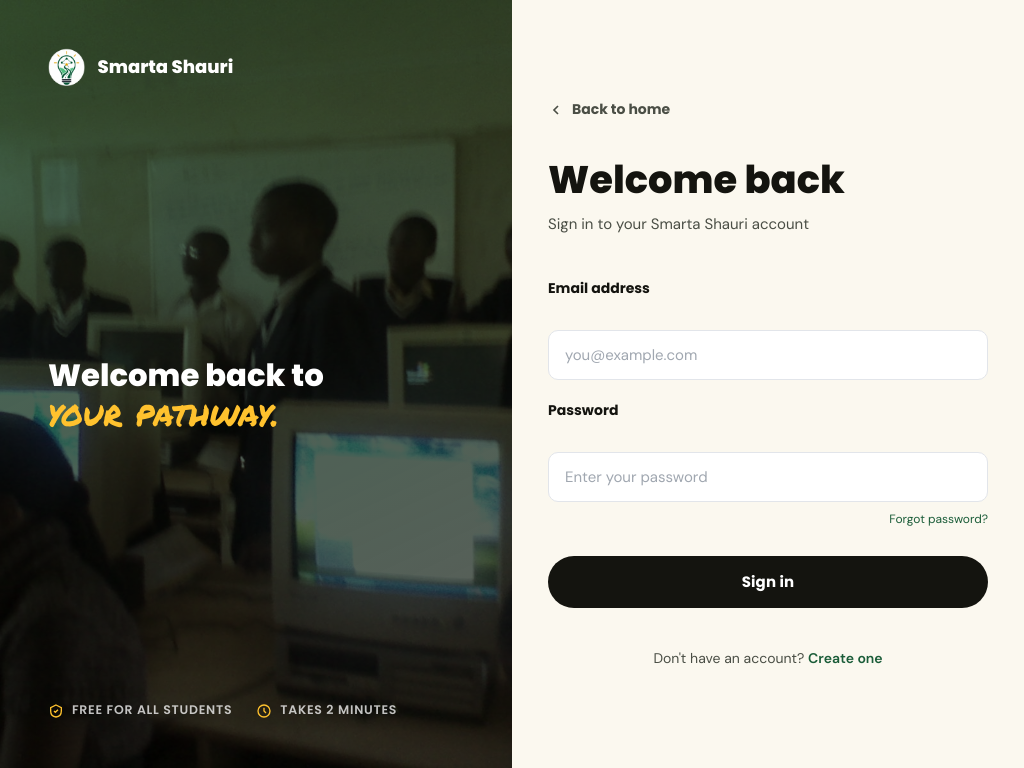
Test: LoginPage › disables button while submitting
Type "test@test.com" into the field labelled "Email address" at (768, 355), box 548,330 -> 988,380
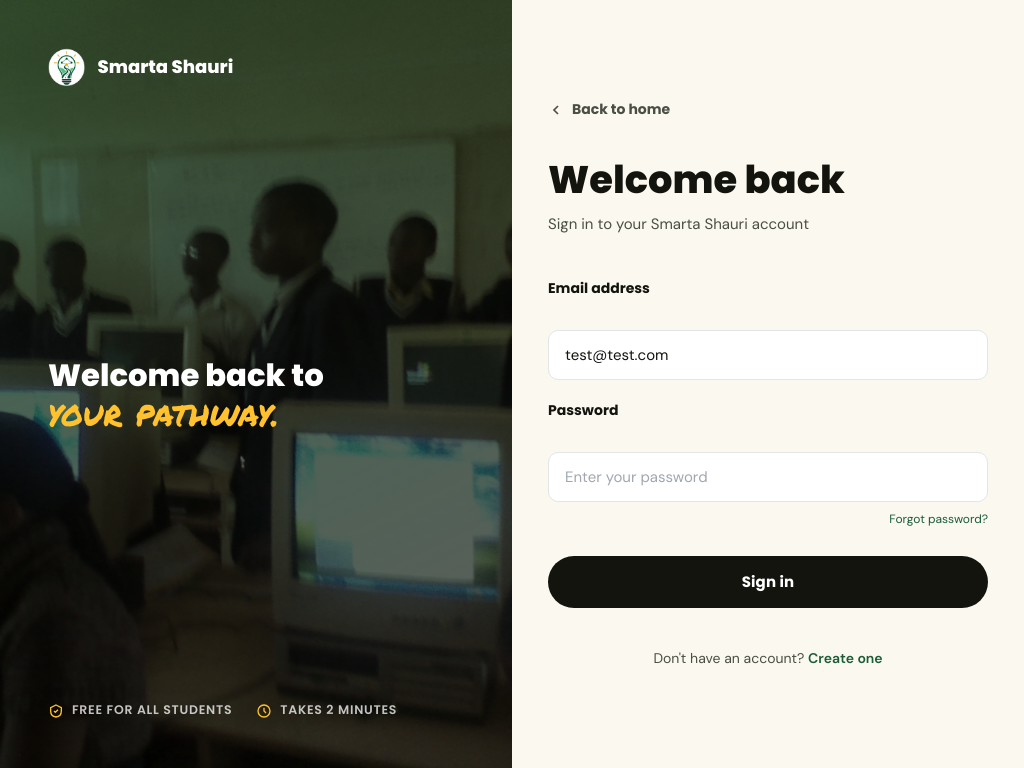
Type "TestPass123!" into the password field labelled "Password" at (768, 477), box 548,452 -> 988,502
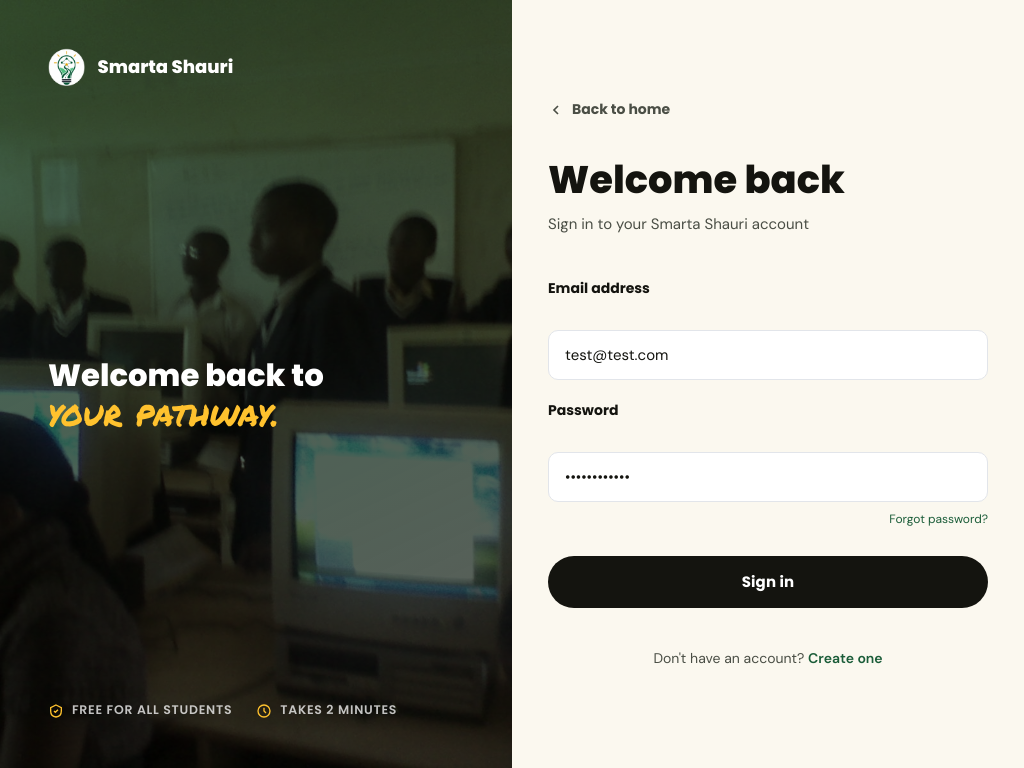
Click the button "Sign in" at (768, 582), box 548,556 -> 988,608
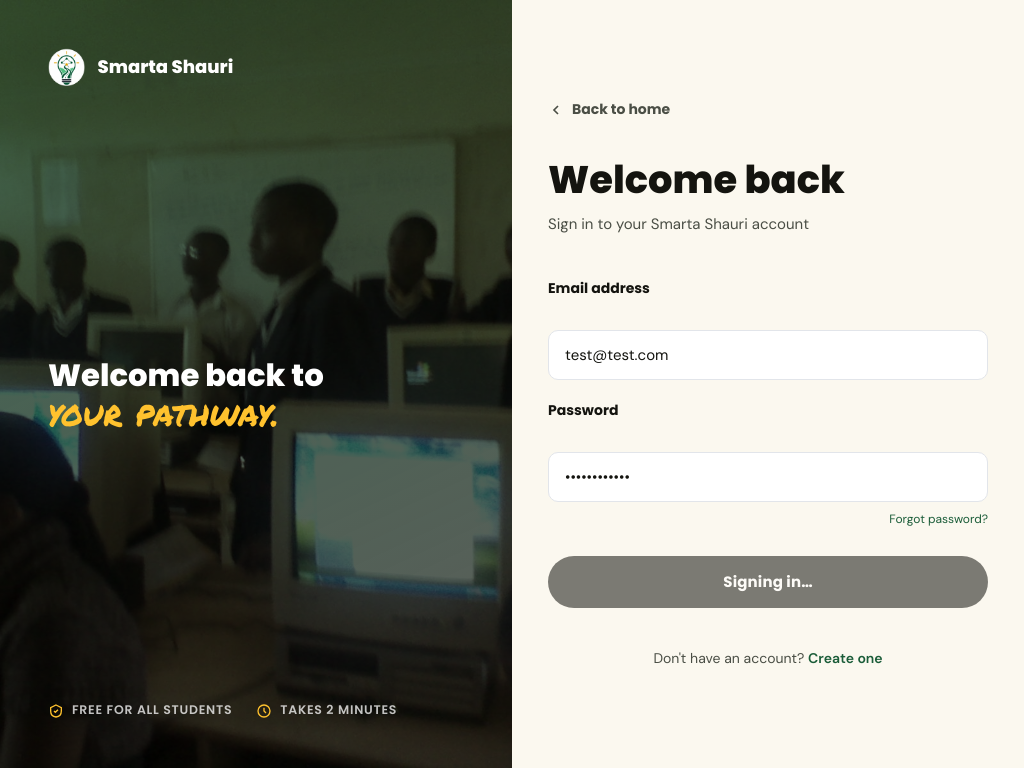
Result: the button is disabled at 548,556 -> 988,608
